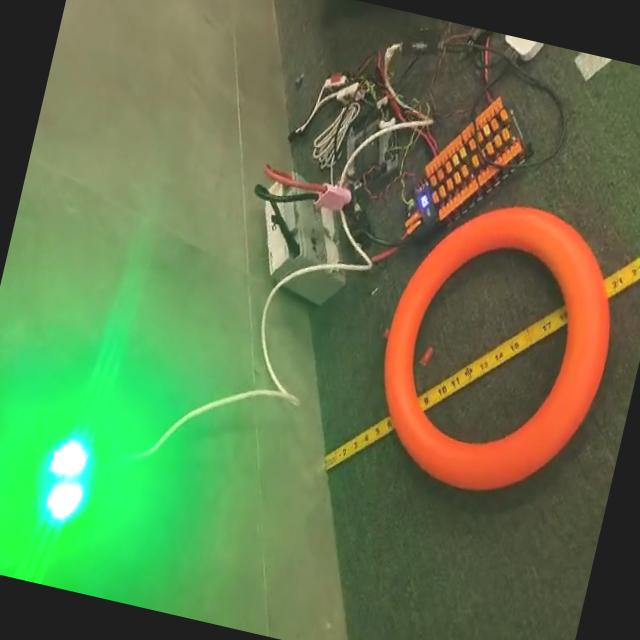note: (357, 184, 638, 514)
